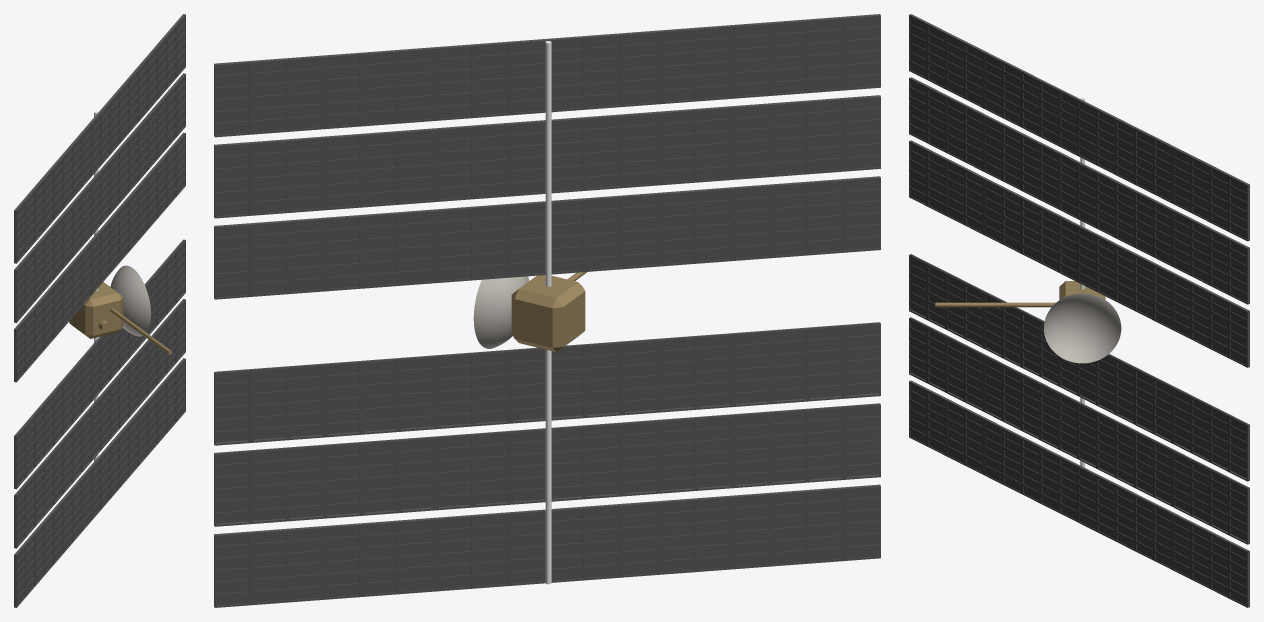
File: satellite.fbx
3 renders of one model, left to right at view 1: azimuth 30°, elevation 25°; view 2: azimuth 150°, elevation 25°; view 3: azimuth 270°, elevation 25°, orthographic. The views are drawn at different scales.
Parts seen in each view (by area): view 1: Body9, Body18, Body4, Body5, Body12, Body14, Body13, Body7, Body6, Body8, Body19, Body15 (+2 smaller); view 2: Body13, Body15, Body6, Body7, Body8, Body19, Body5, Body18, Body9, Body4, Body12, Body14 (+3 smaller); view 3: Body13, Body5, Body4, Body18, Body9, Body8, Body19, Body7, Body6, Body12, Body15, Body14 (+2 smaller).
Part boxes in pixels (x1,y1,x2,y2): Body9: [14, 73, 185, 322]; Body18: [14, 132, 185, 382]; Body4: [14, 358, 185, 607]; Body5: [14, 14, 185, 263]; Body12: [14, 299, 185, 548]; Body14: [14, 240, 185, 489]; Body13: [15, 299, 184, 544]; Body7: [17, 362, 184, 604]; Body6: [17, 18, 184, 260]; Body8: [17, 77, 184, 319]; Body19: [17, 136, 184, 379]; Body15: [15, 239, 184, 485]; Body13: [215, 403, 879, 523]; Body15: [215, 322, 879, 442]; Body6: [216, 18, 879, 134]; Body7: [216, 489, 879, 605]; Body8: [216, 99, 879, 216]; Body19: [216, 181, 879, 297]; Body5: [214, 14, 880, 137]; Body18: [214, 176, 880, 299]; Body9: [214, 95, 880, 218]; Body4: [214, 484, 880, 607]; Body12: [214, 403, 880, 526]; Body14: [214, 322, 880, 445]; Body13: [910, 317, 1248, 541]; Body5: [909, 14, 1249, 241]; Body4: [909, 380, 1249, 607]; Body18: [909, 140, 1249, 367]; Body9: [909, 77, 1249, 304]; Body8: [910, 81, 1246, 301]; Body19: [910, 144, 1246, 365]; Body7: [910, 384, 1246, 605]; Body6: [910, 18, 1246, 238]; Body12: [909, 318, 1249, 544]; Body15: [910, 254, 1248, 478]; Body14: [909, 254, 1249, 481].
Size of the model in its own units: 262 by 301 by 220.
